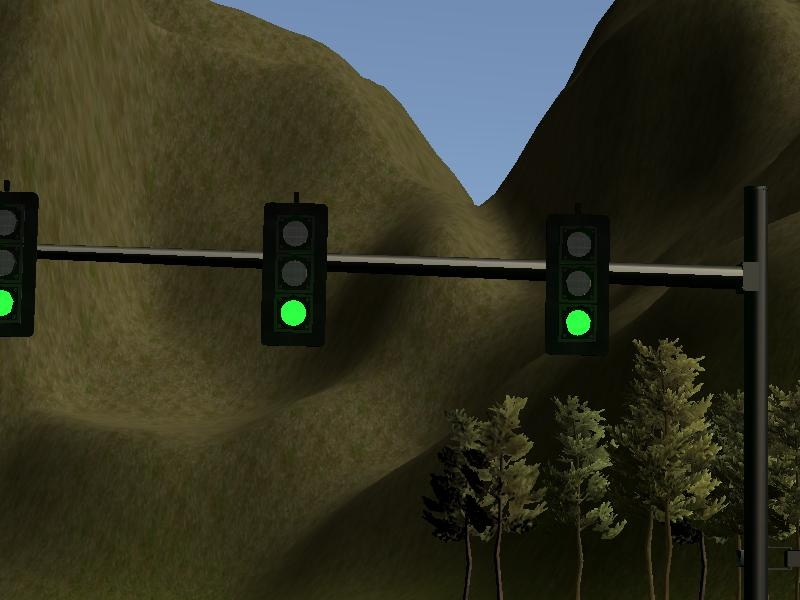green: (257, 199, 333, 347), (546, 214, 613, 361), (1, 191, 40, 341)
